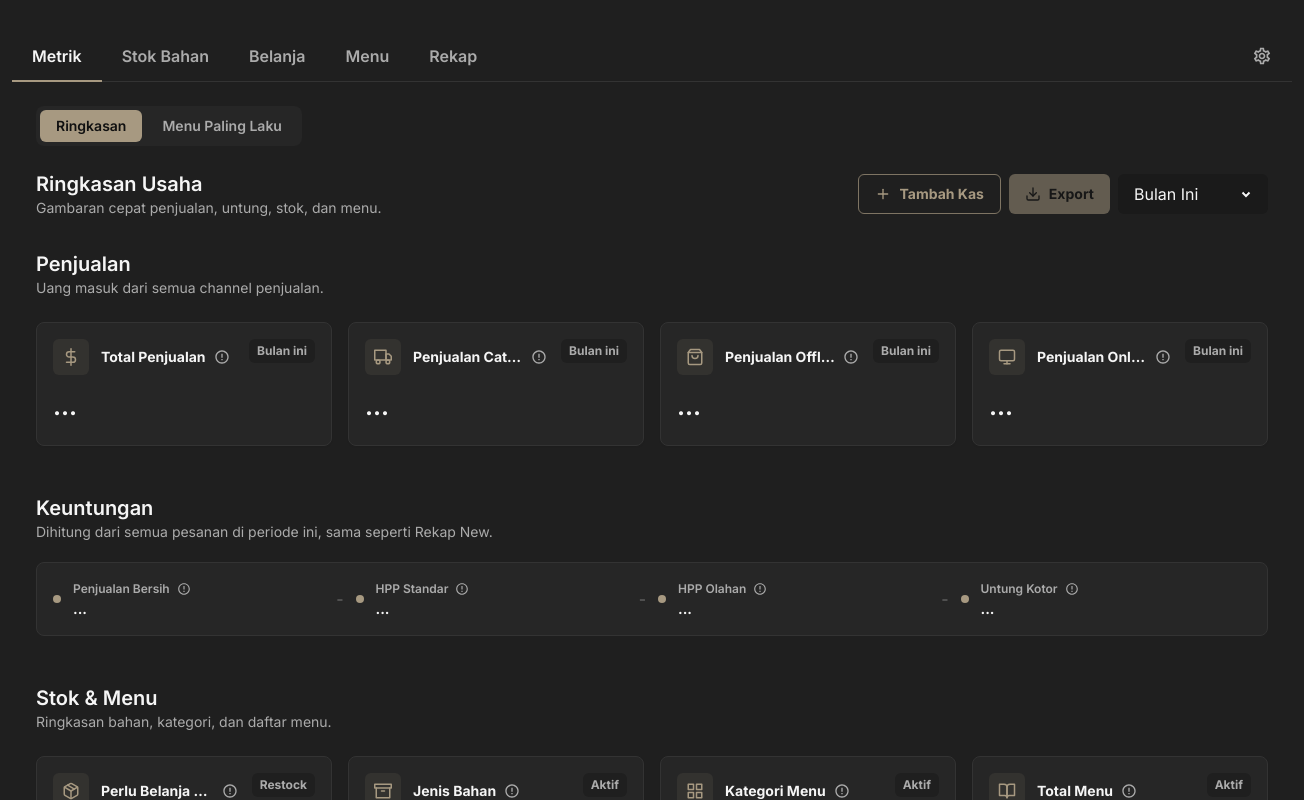
Test: dashboard menus: Stok Bahan holds what is on hand, Belanja the purchases › keeps the stamp card in Menu → Promo, disabled, without a loyalty key (Pengaturan → API)
Click the button "Menu".
click(367, 57)  # box [326,32,409,82]
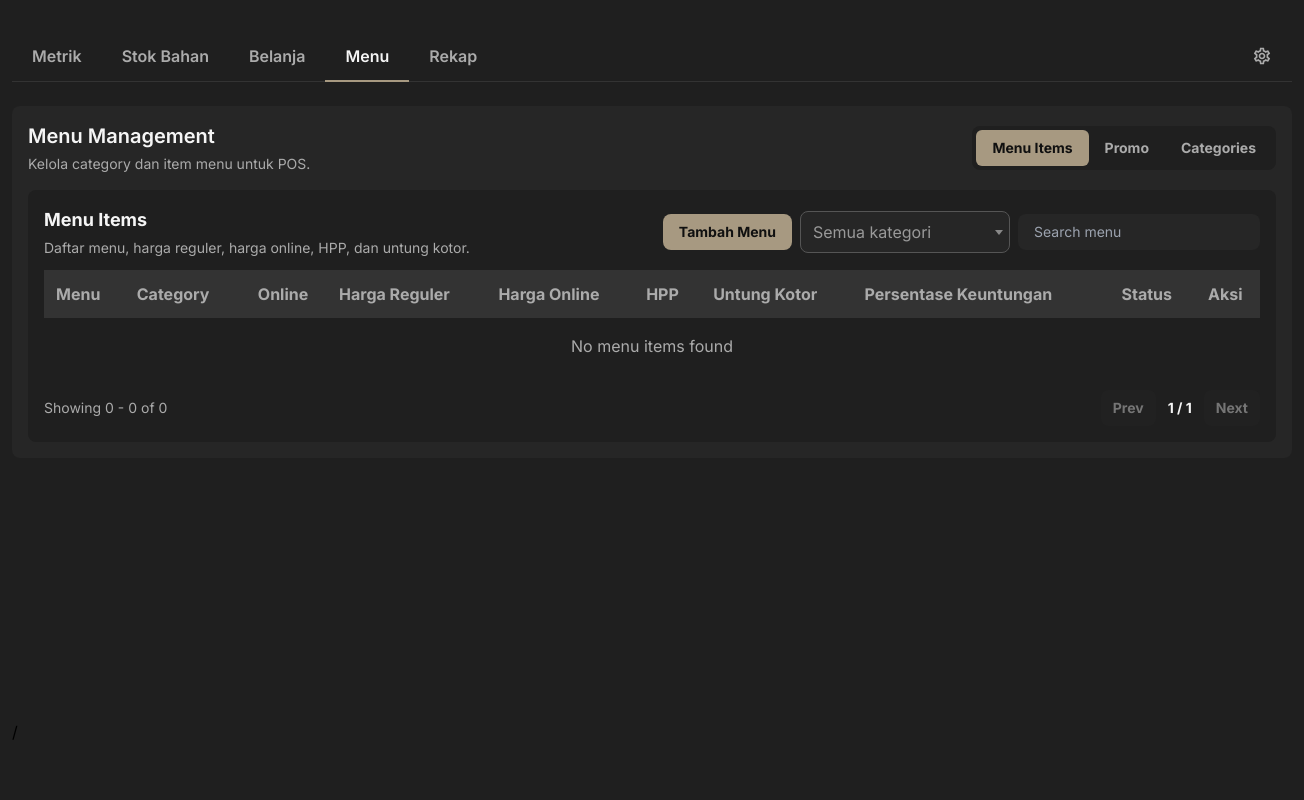
Click the button "Promo".
click(1127, 148)  # box [1089,130,1165,166]
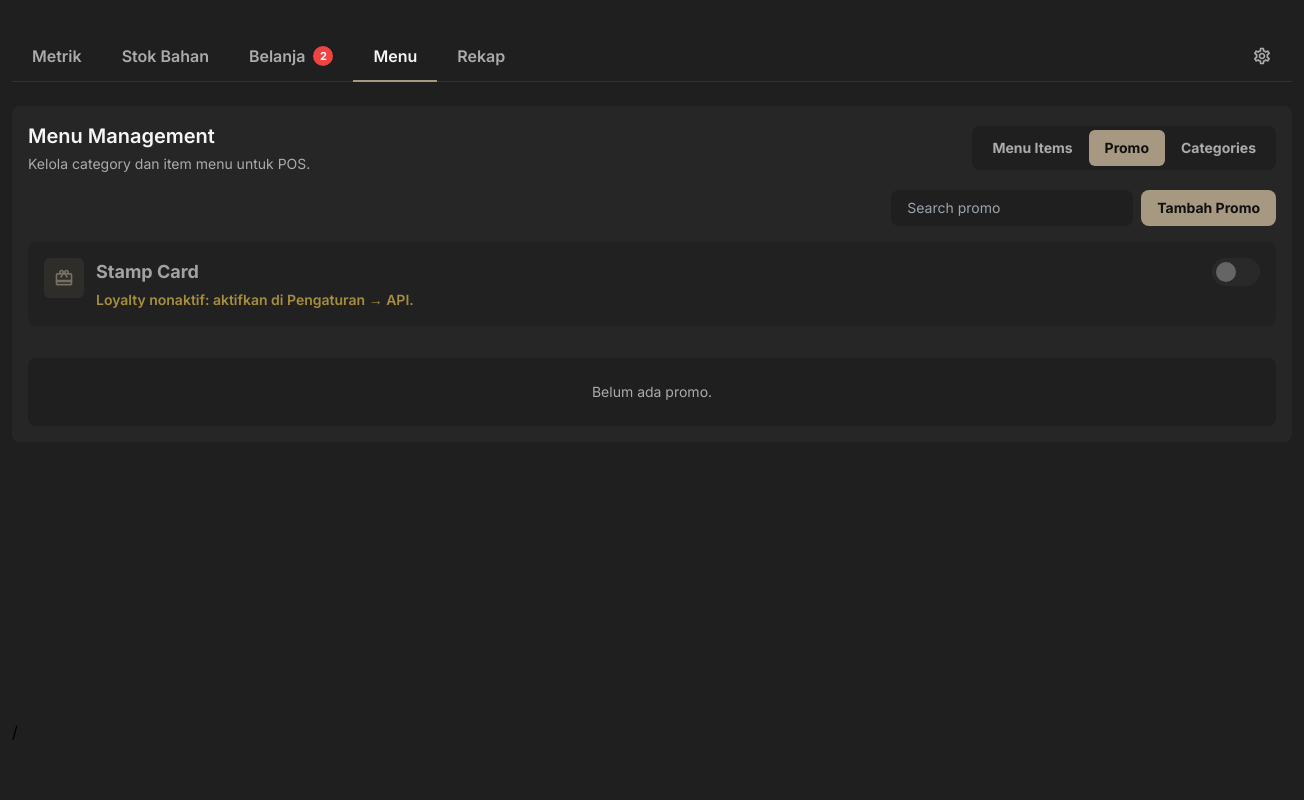
Check: the button "Tambah Promo" is shown, box [1141,190,1276,226]
Check: the text "Loyalty nonaktif: aktifkan di Pengaturan → API." is shown, box [96,290,414,310]
Check: the switch named "Stamp Card" is disabled, box [1212,258,1260,286]
